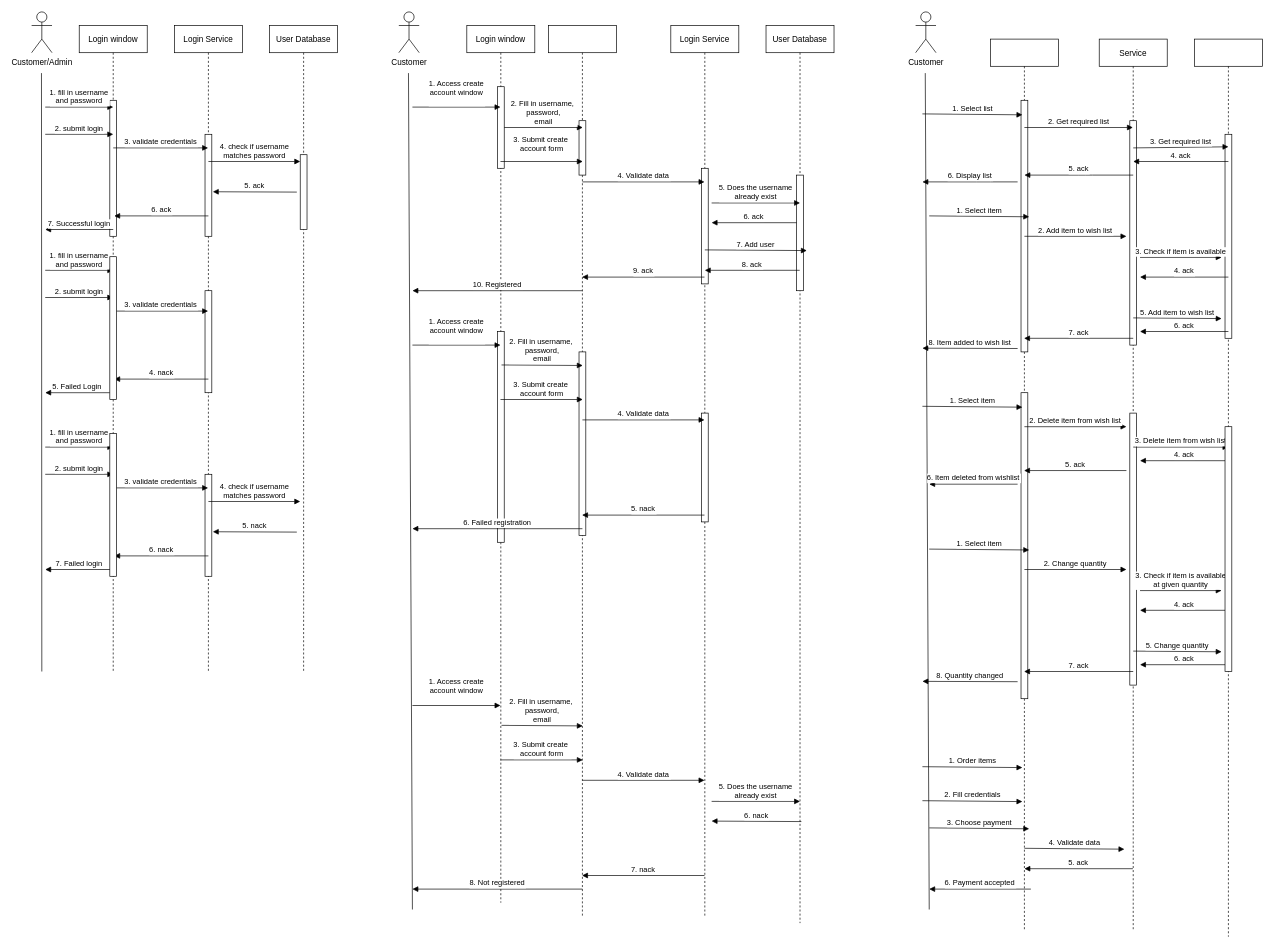
The diagram is 1274 pixels wide and 949 high, and some of its shapes have lost their labels. Here are the shapes that lost their labels. From the top down, the box of each, then its label:
(548, 25, 616, 916): Create account window
(990, 38, 1058, 930): Display list window
(1194, 38, 1262, 937): Database
